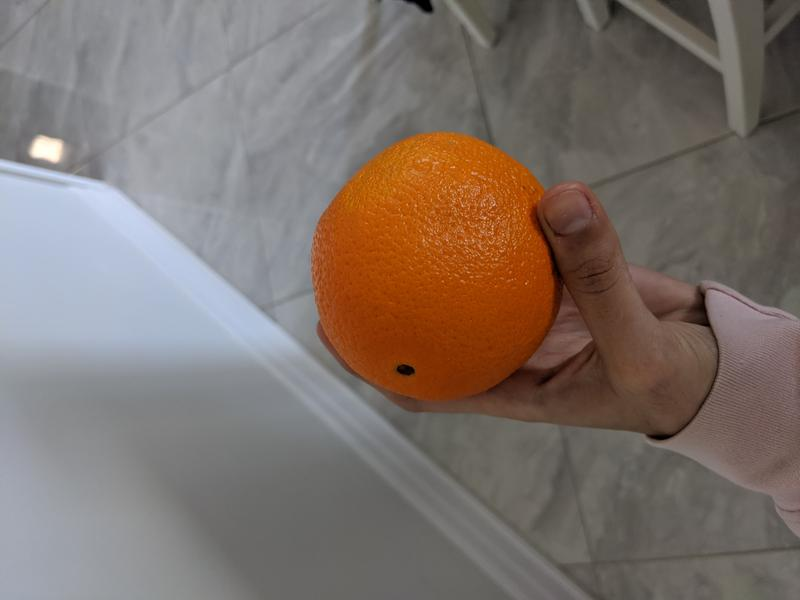orange: (310, 130, 567, 403)
